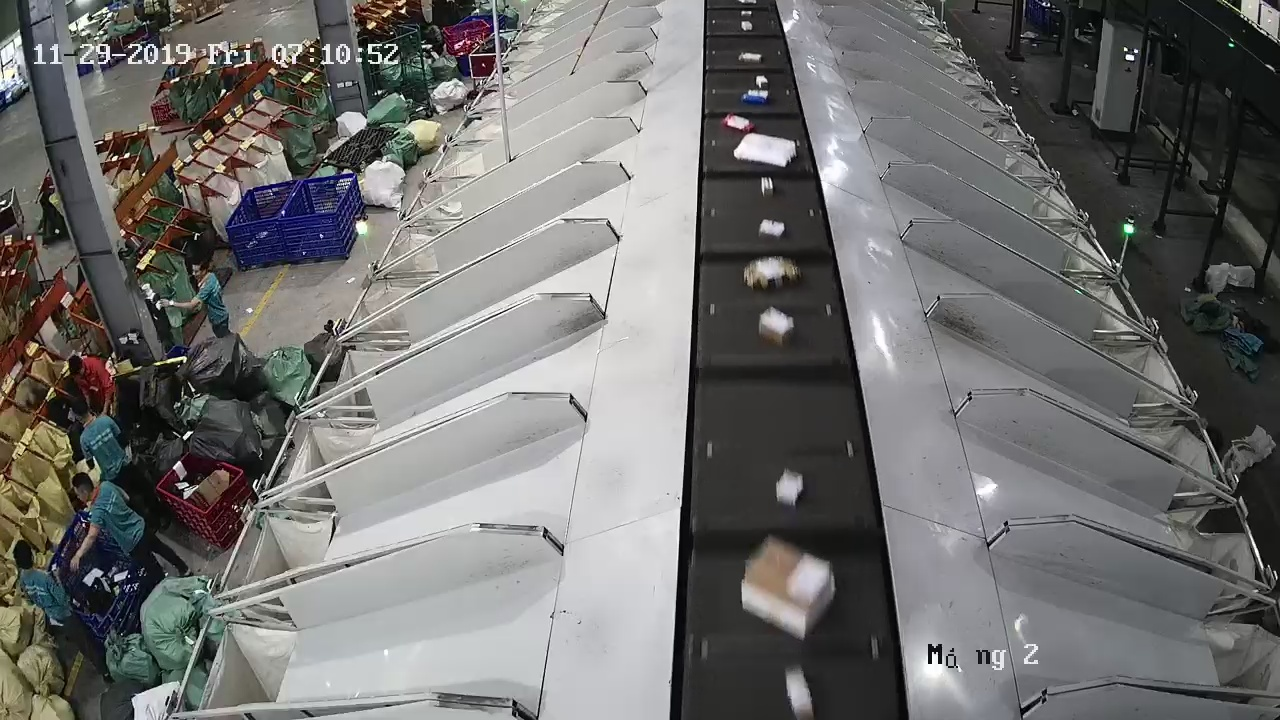parcel: (740, 535, 835, 642), (733, 132, 797, 168), (743, 255, 803, 293), (758, 307, 794, 349), (775, 469, 804, 512), (758, 219, 785, 240), (760, 176, 774, 198)
